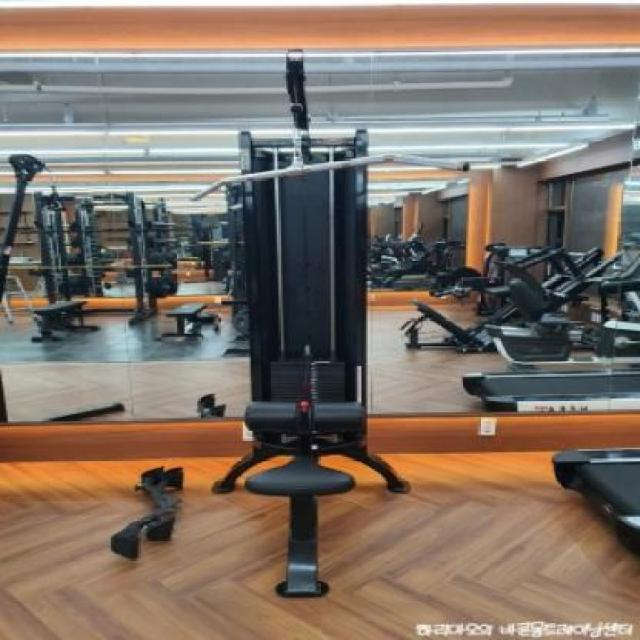Lat Pull Down: (117, 41, 480, 624)
